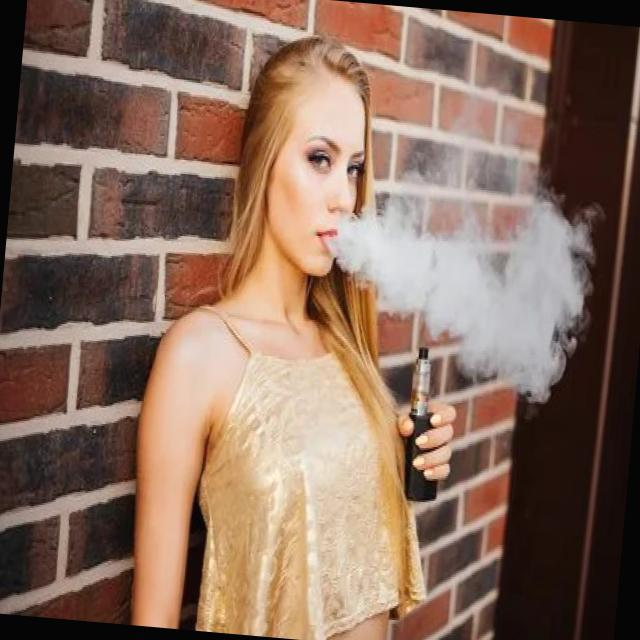smoke: (396, 342, 449, 515)
